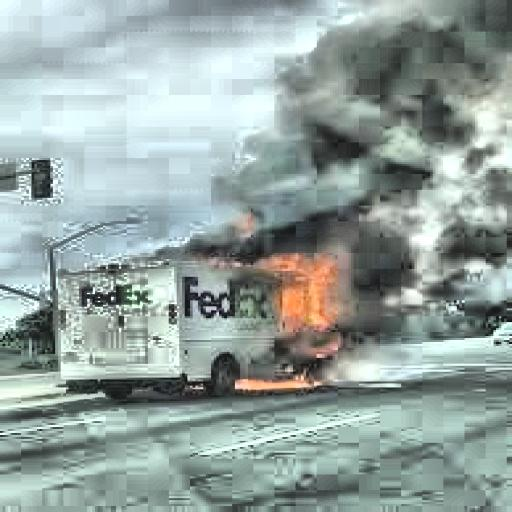fire: (216, 230, 370, 392)
